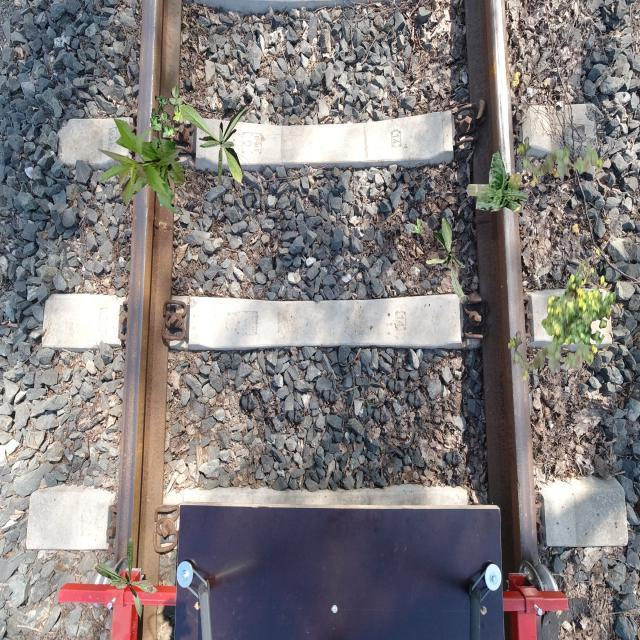Plant: (97, 118, 186, 216), (541, 249, 616, 354), (180, 103, 252, 184), (95, 538, 159, 622), (516, 136, 602, 188), (508, 331, 594, 382), (465, 150, 528, 212), (426, 217, 466, 300), (150, 86, 188, 141), (410, 218, 424, 233)
